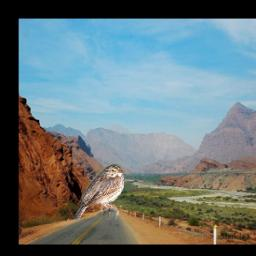Sparrow: (74, 163, 124, 220)
